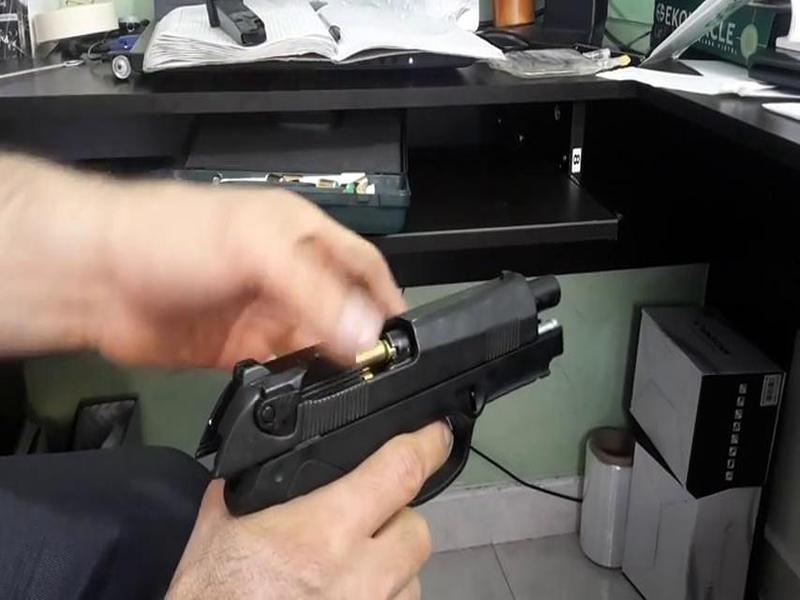Pistola: (201, 269, 568, 524)
